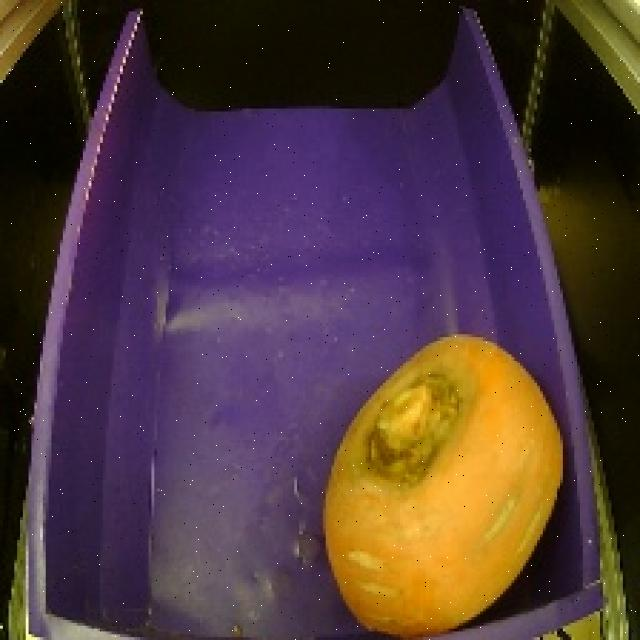carrots: (312, 327, 578, 638)
